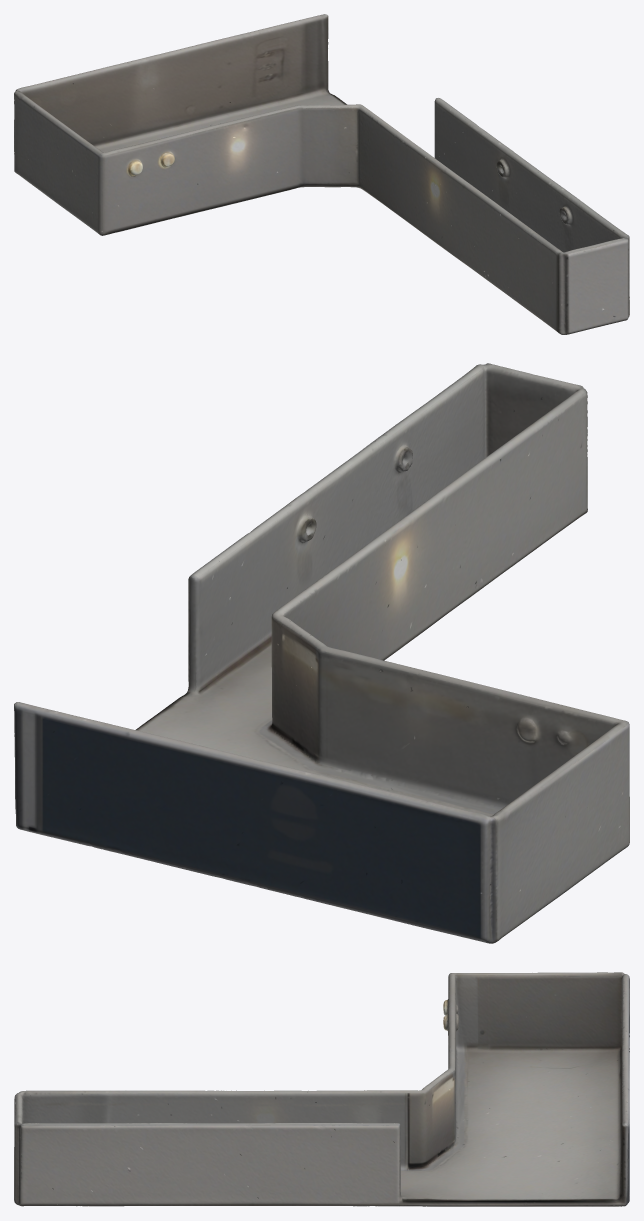
Rendered from Meshy_AI_Hallway_Labyrinth_0129073206_texture.glb.
3 views of the same model, one above another, from view 1: azimuth 30°, elevation 25°; view 2: azimuth 150°, elevation 25°; view 3: azimuth 270°, elevation 25° (orthographic). The views are drawn at different scales.
Bounding box in the file's own units: 1.19 × 0.2993 × 2.
Materials: 1 (1 with a texture image).
